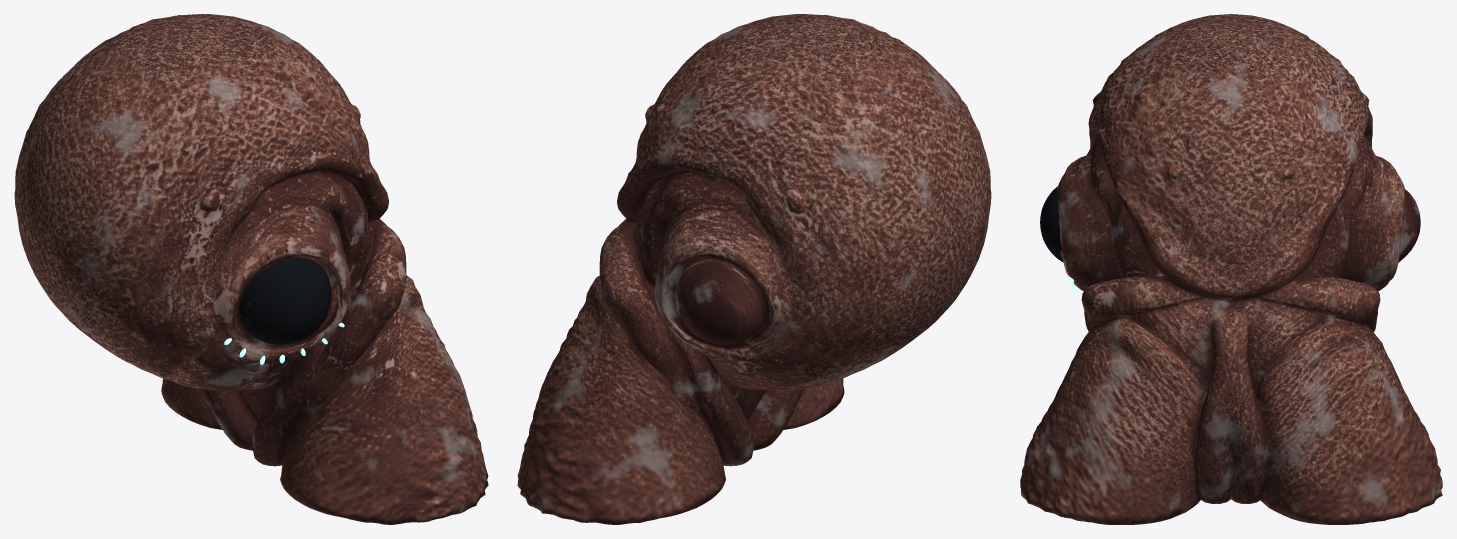
File: abyss_head.glb
The picture shows the model from 3 angles, left to right: view 1: azimuth 30°, elevation 25°; view 2: azimuth 150°, elevation 25°; view 3: azimuth 270°, elevation 25°; orthographic projection. The views are drawn at different scales.
Visible parts, largest first — view 1: head, eye_L; view 2: head; view 3: head, eye_L.
Boxes of the visible parts, x1,y1,x2,y2 form: head: (14, 14, 488, 524); eye_L: (239, 257, 331, 344); head: (517, 14, 991, 524); head: (1020, 14, 1442, 524); eye_L: (1040, 186, 1062, 261).
Bounding box in the file's own units: 1.01 × 1.12 × 1.08.
3 materials, 1 textured.
